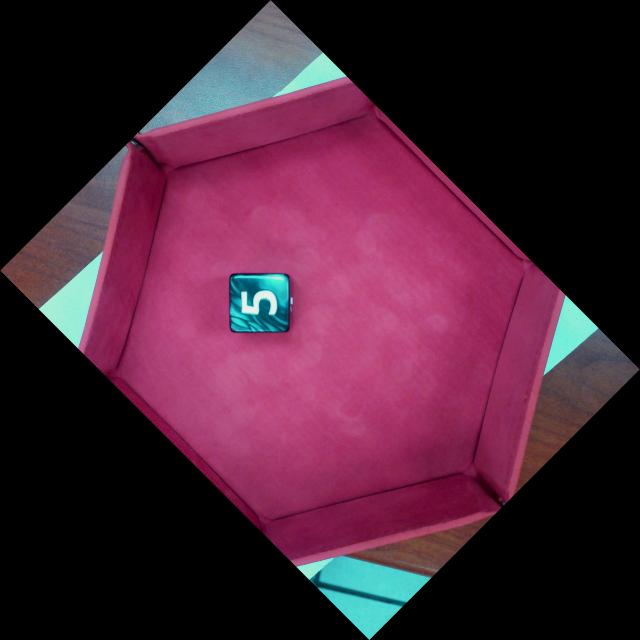dice: (228, 272, 292, 334)
